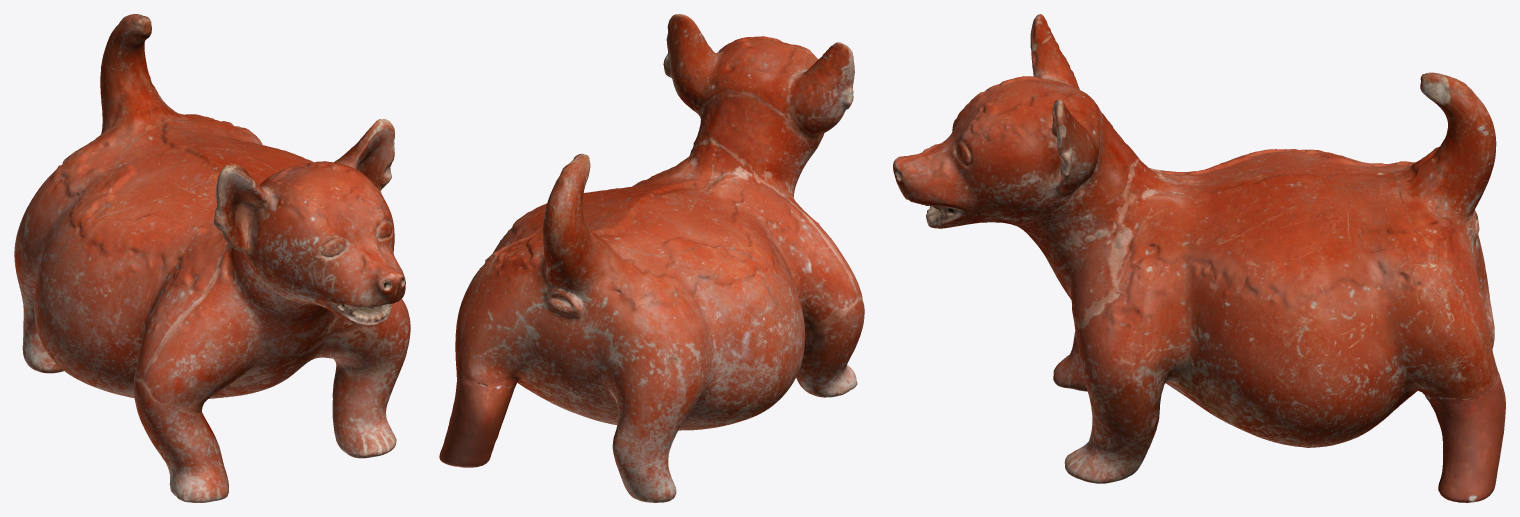
The model's file is xolo-transformed.glb.
3 renders of one model, left to right at view 1: azimuth 30°, elevation 25°; view 2: azimuth 150°, elevation 25°; view 3: azimuth 270°, elevation 25°, orthographic. The views are drawn at different scales.
Parts seen in each view (by area): view 1: 1923.06.0545 (xolo); view 2: 1923.06.0545 (xolo); view 3: 1923.06.0545 (xolo).
Boxes of the visible parts, x1=… form: 1923.06.0545 (xolo): x1=14, y1=14, x2=410, y2=502; 1923.06.0545 (xolo): x1=439, y1=14, x2=864, y2=502; 1923.06.0545 (xolo): x1=893, y1=14, x2=1505, y2=502.
Size of the model in its own units: 0.2532 by 0.2643 by 0.395.
1 material, 1 textured.
